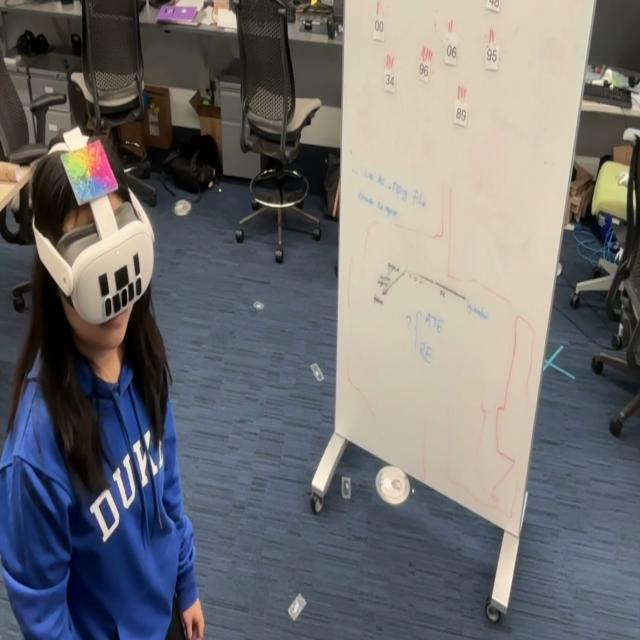Headset: (30, 137, 154, 326)
Marker: (60, 135, 119, 208)
